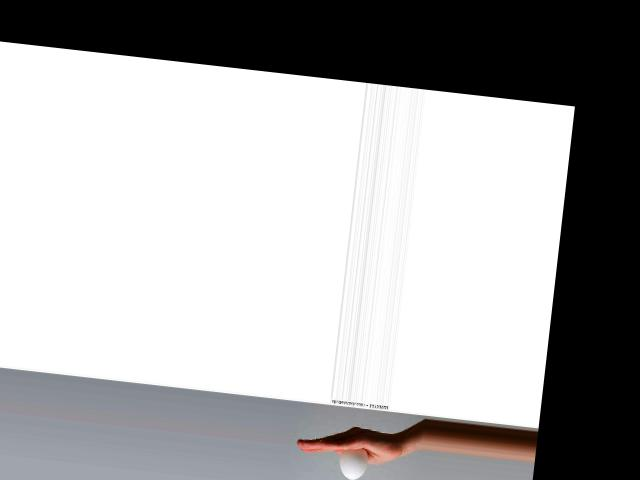egg: (338, 445, 368, 480)
